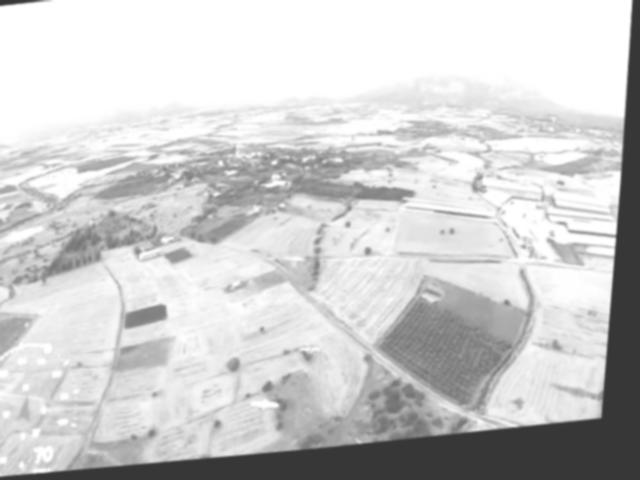hedef: (256, 399, 292, 423), (303, 339, 330, 368)
